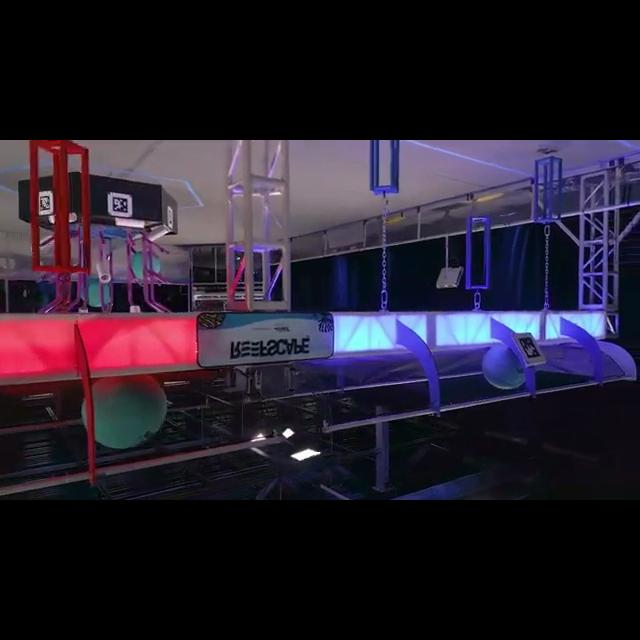ALGAE: (80, 374, 168, 451), (485, 344, 529, 390)
